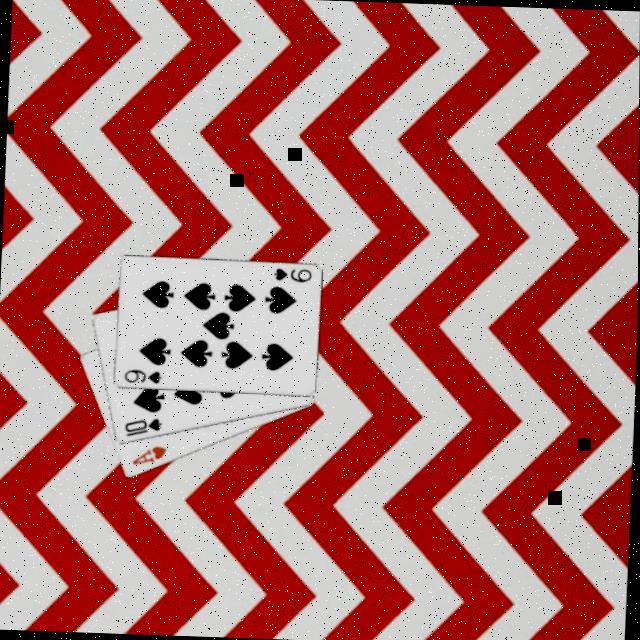10S: (121, 414, 166, 438)
9S: (121, 365, 166, 385), (271, 264, 315, 284)
AH: (130, 441, 171, 468)
